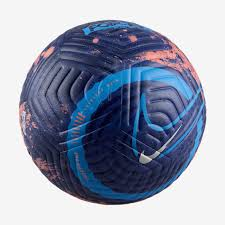football ball: (16, 19, 209, 207)
